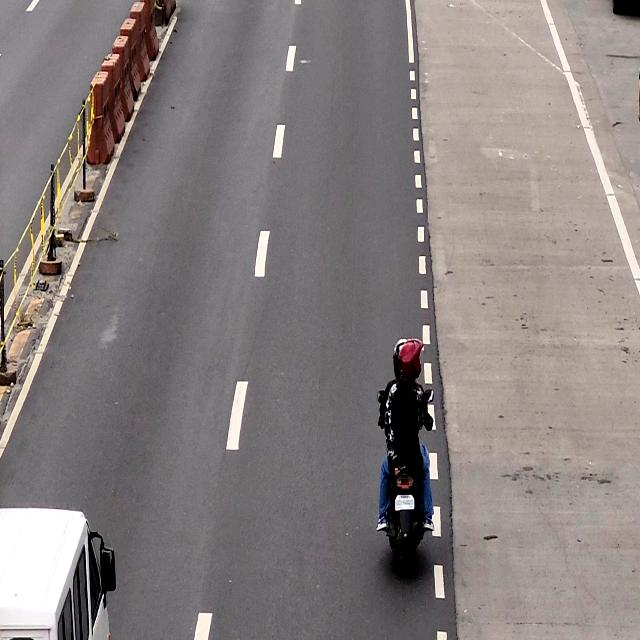Car: (0, 503, 110, 640)
License-Plate: (394, 493, 416, 512)
Motorcycle: (382, 332, 431, 578)
